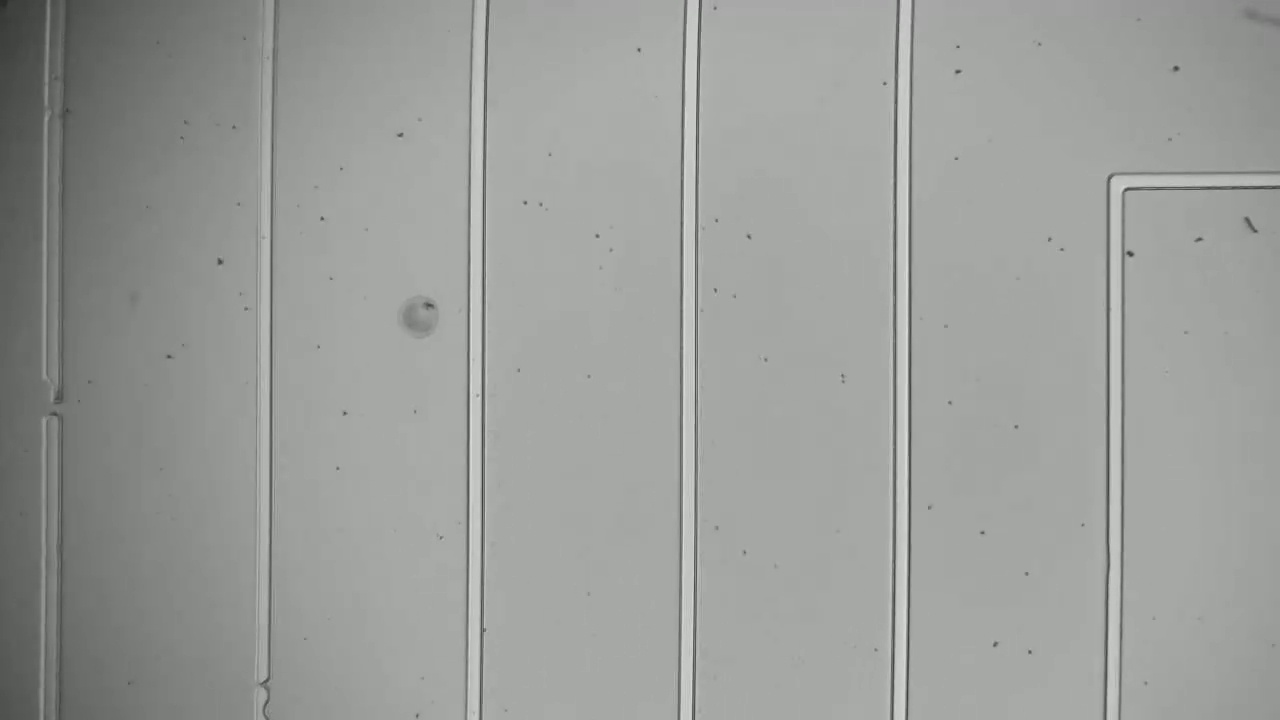edge_bite: (247, 660, 279, 696), (245, 691, 277, 720)
open: (37, 368, 71, 436)
